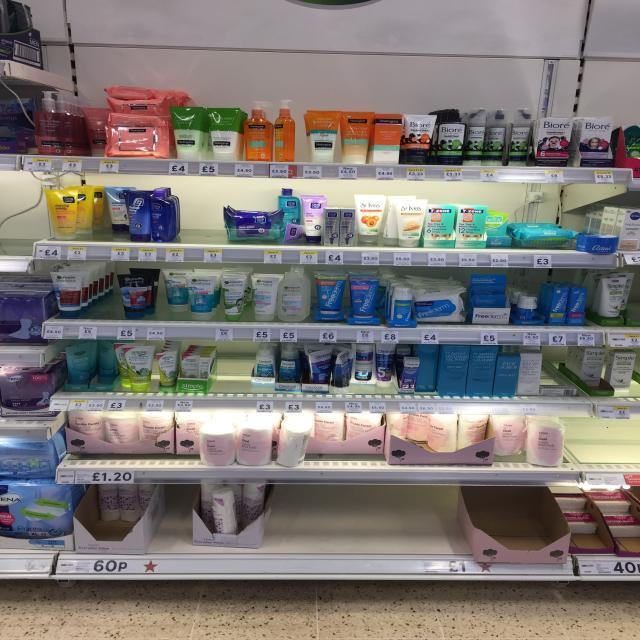empty: (279, 486, 456, 575), (569, 420, 639, 484), (181, 184, 222, 262), (0, 190, 25, 273), (219, 344, 249, 410), (95, 271, 118, 339)
